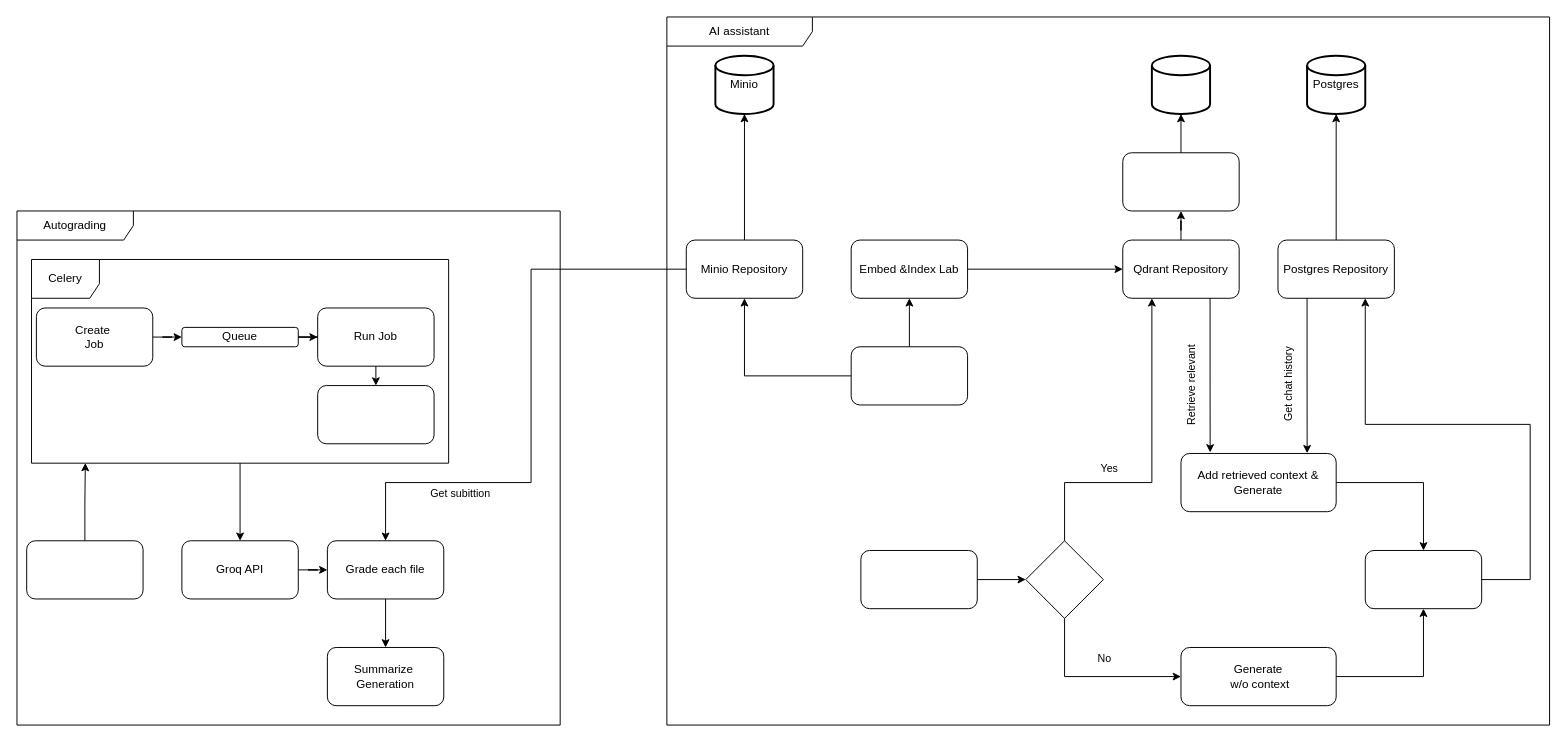
Some shapes in this 1567 by 742 pixel diagram are drawn without their labels. The shapes that lost their labels are listed below. From the top down, each one's centre as x and y in pixels, then its label:
point 1180,84: Qdrant
point 1180,181: Embedder BAAI/bge-small-en-v1.5
point 909,375: Upload Lab
point 375,414: Notify consumers
point 84,569: Use Query
point 918,579: User Query
point 1064,579: Retrieve?
point 1423,579: Add to chat history
